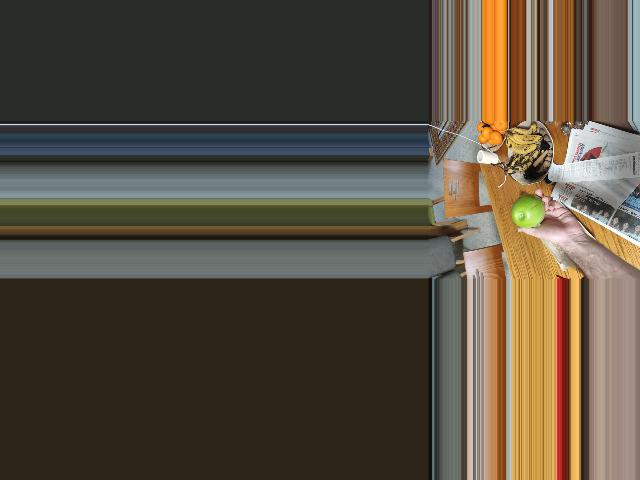apple: (508, 193, 544, 229)
